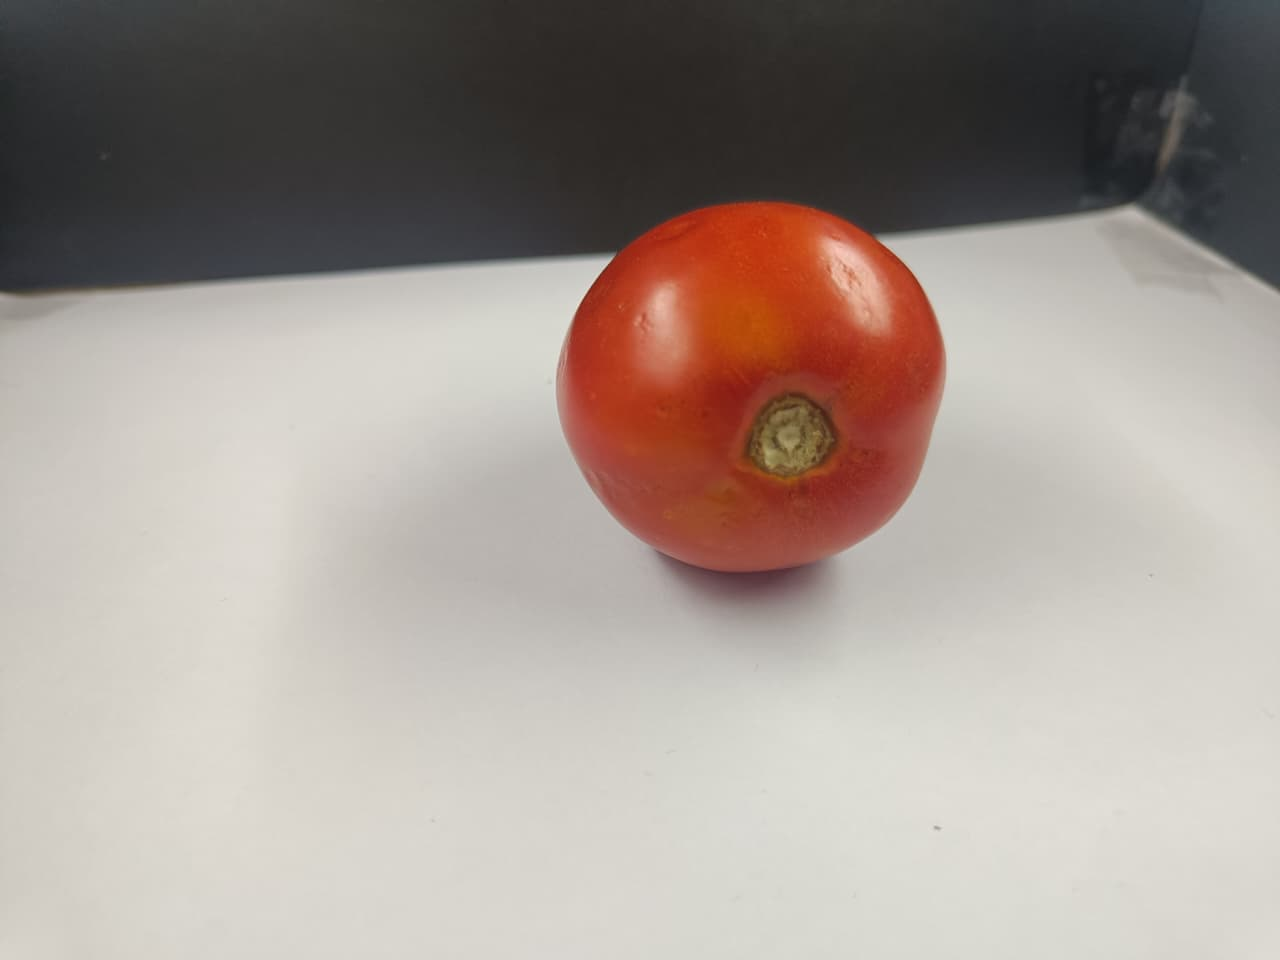ripe: (549, 160, 961, 590)
